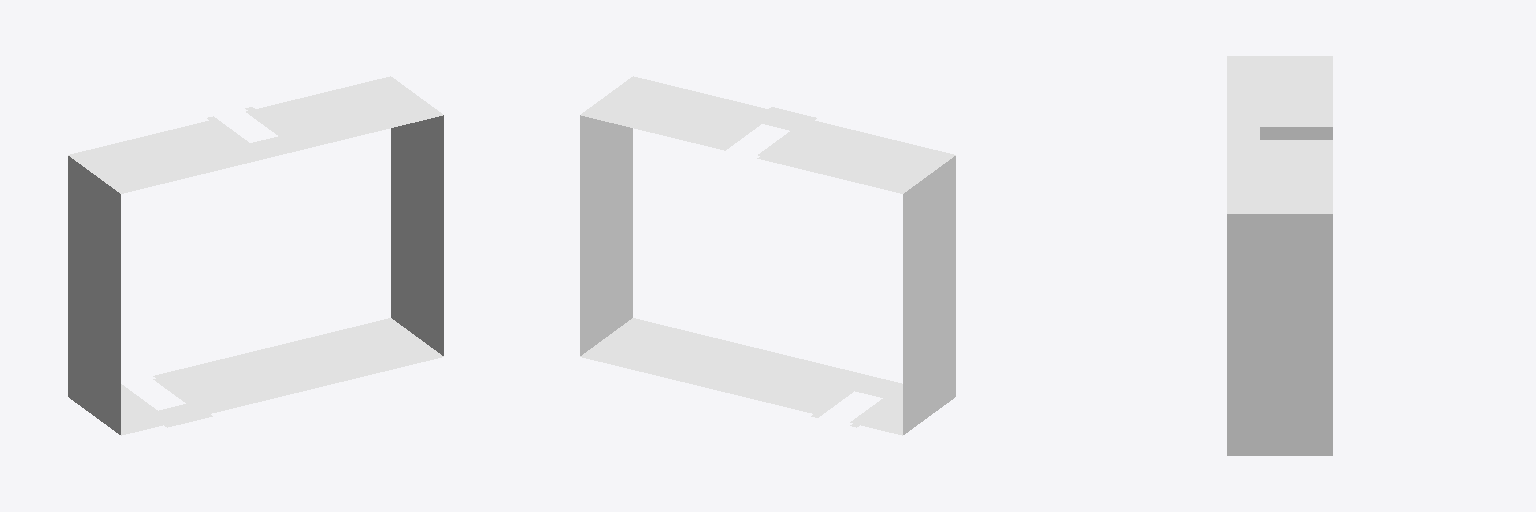
The model's file is reception.obj.
3 views of the same model, side by side, from view 1: azimuth 30°, elevation 25°; view 2: azimuth 150°, elevation 25°; view 3: azimuth 270°, elevation 25° (orthographic).
Parts seen in each view (by area): view 1: reception; view 2: reception; view 3: reception.
Part boxes in pixels (x1,y1,x2,y2): reception: (68, 76, 443, 435); reception: (580, 76, 955, 435); reception: (1227, 56, 1332, 455).
Bounding box in the file's own units: 1050 × 770 × 300.